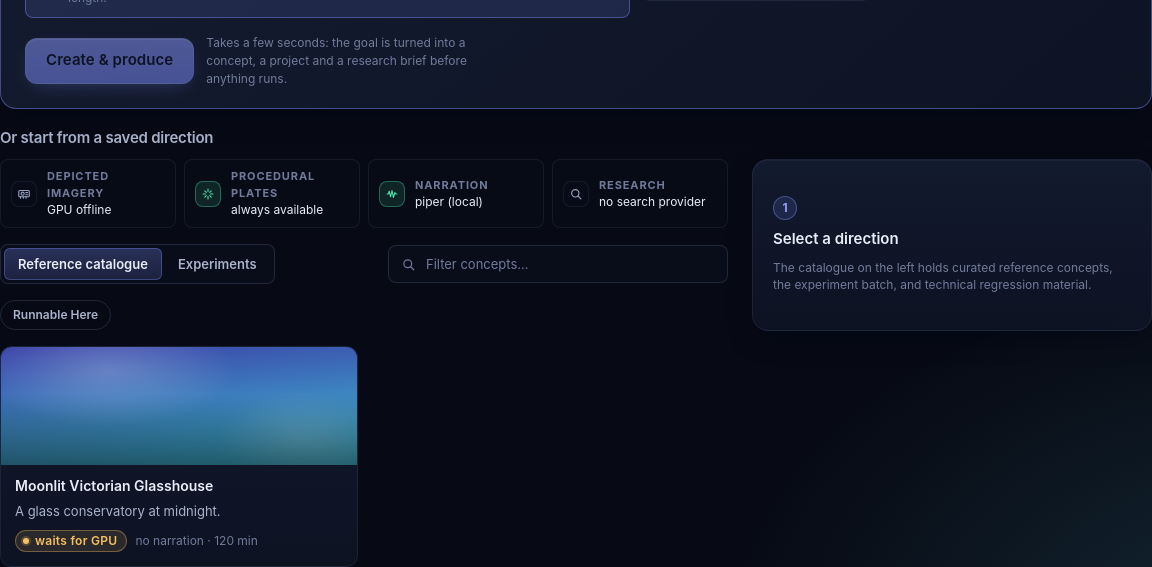
NewProjectPage › explains a taken id instead of failing opaquely
The width and height of the screenshot is (1152, 567).
(page scrolled)
Click the tab "Experiments". click: [217, 264]
box: [164,248,271,280]
(page scrolled)
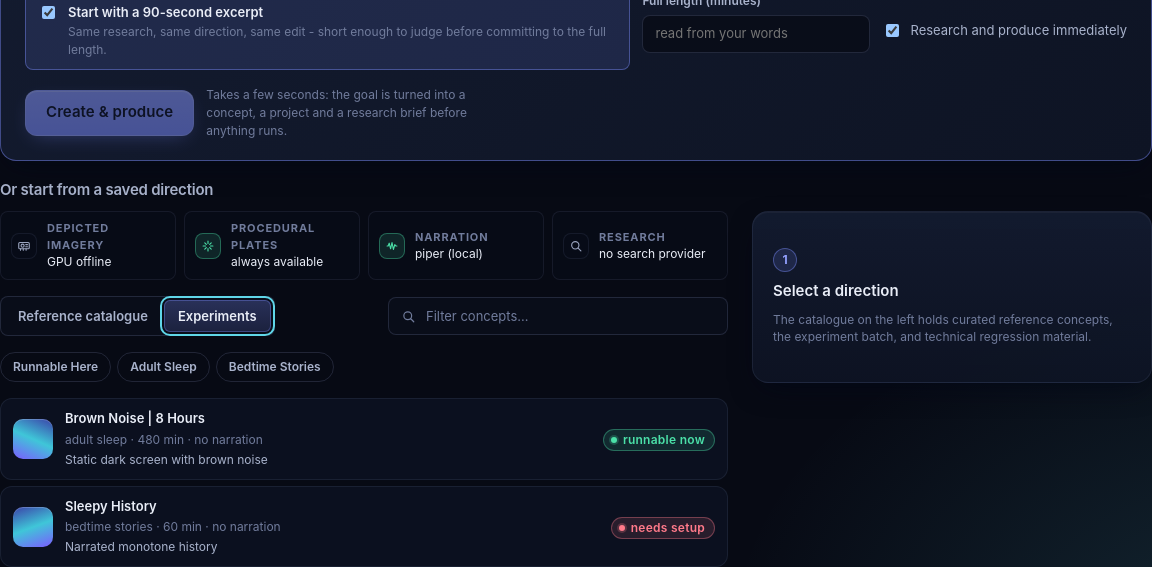
Click the button "Brown Noise". click: [33, 439]
box: [0,398,728,480]
(page scrolled)
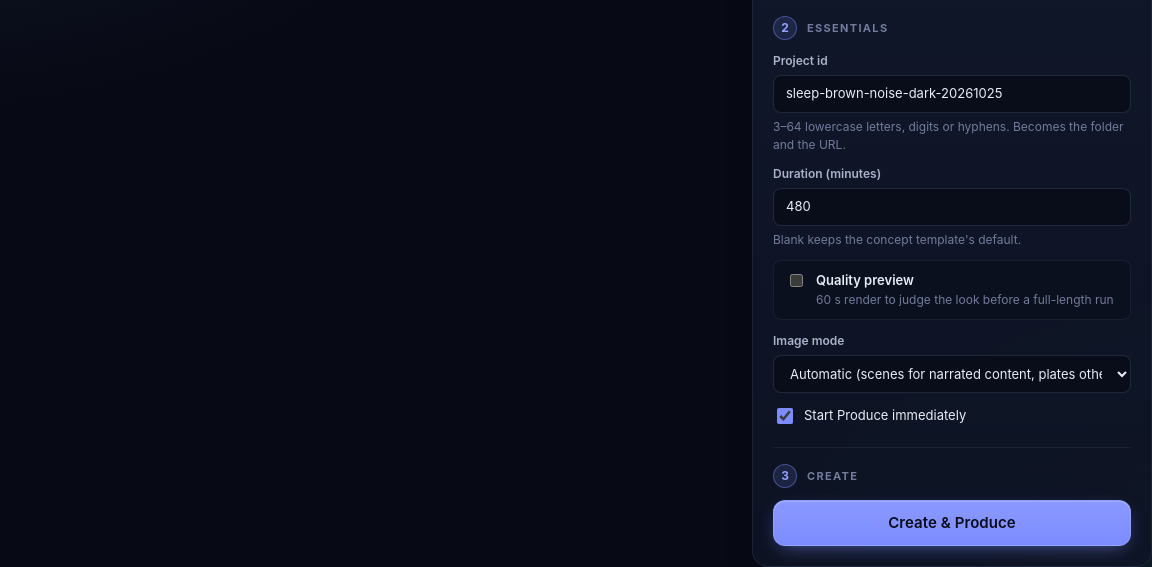
Click the button "Create & Produce". click: [952, 523]
box: [773,500,1131,546]
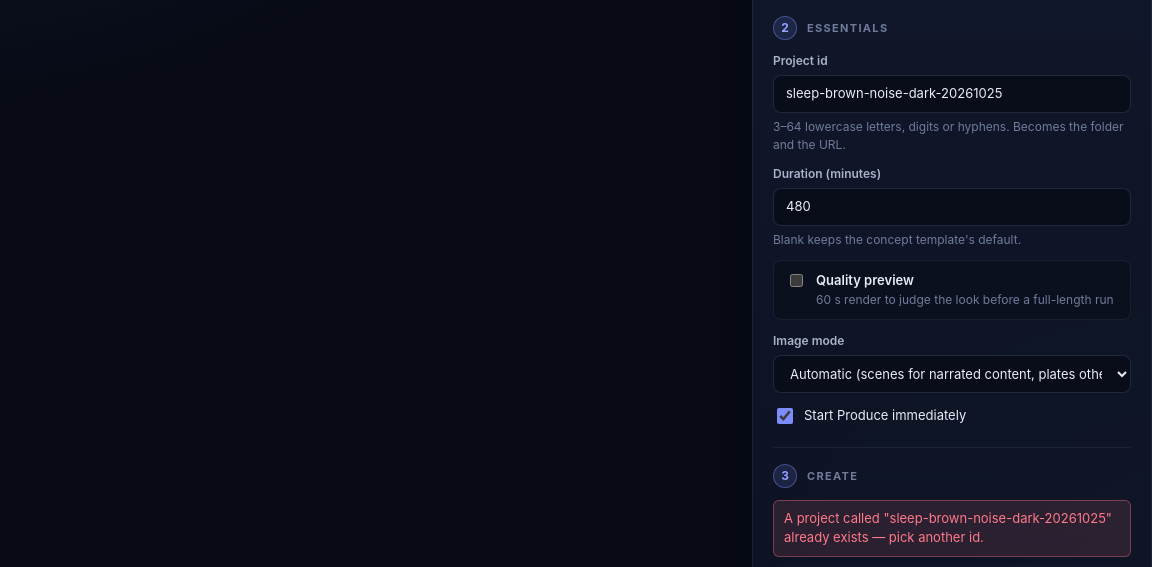
Check: the message shows "already exists — pick another id", box [784,510,1112,545]
